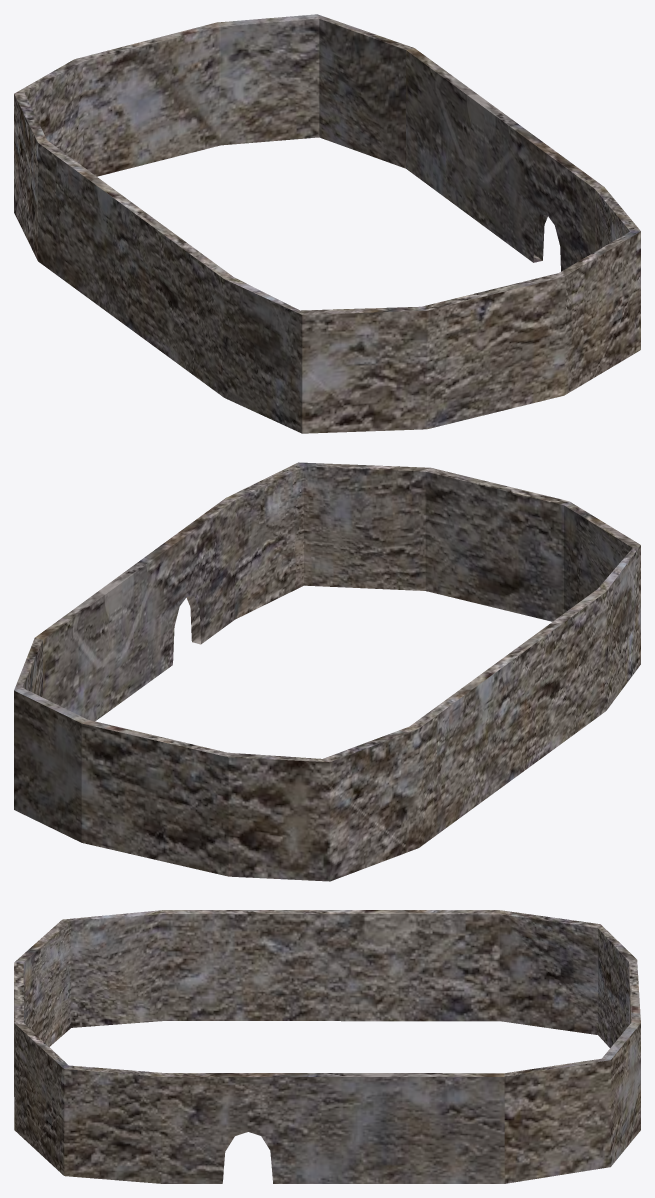
File: ROOM_WALLS.fbx
3 views of the same model, one above another, from view 1: azimuth 30°, elevation 25°; view 2: azimuth 150°, elevation 25°; view 3: azimuth 270°, elevation 25° (orthographic). The views are drawn at different scales.
Visible parts, largest first — view 1: Cube.001; view 2: Cube.001; view 3: Cube.001.
Boxes of the visible parts, x1,y1,x2,y2 form: Cube.001: (14,14,640,433); Cube.001: (14,462,640,881); Cube.001: (14,910,640,1183).
Size of the model in its own units: 2951 by 882 by 4685.
